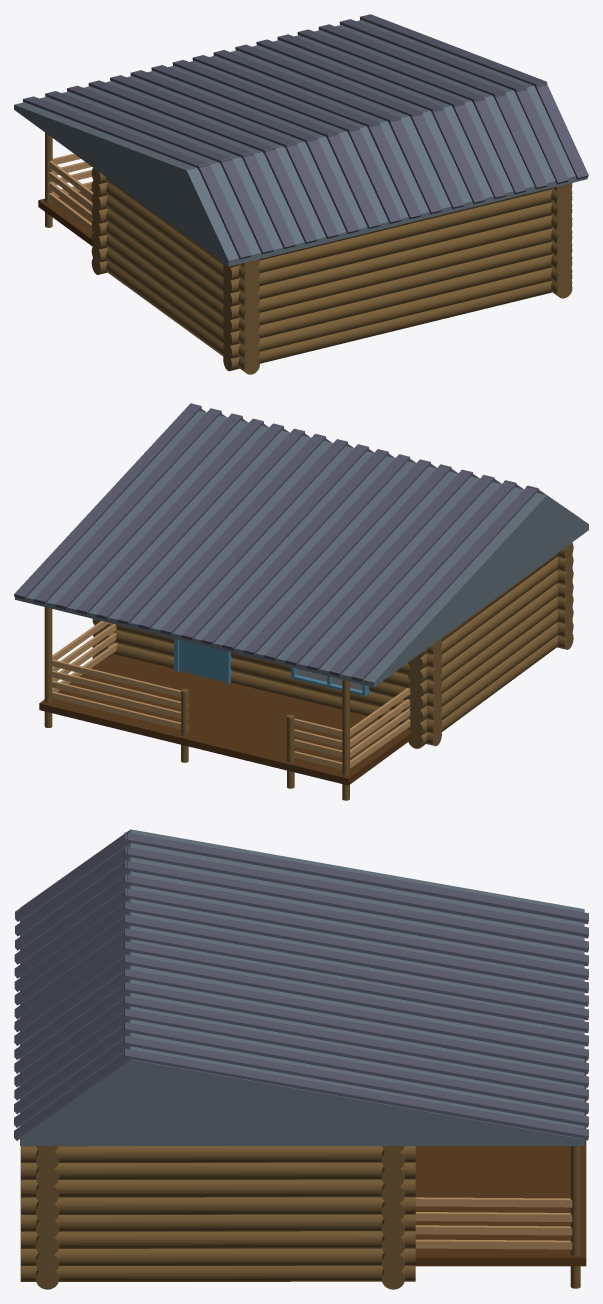
Rendered from Cabin.fbx.
3 renders of one model, top to bottom at view 1: azimuth 30°, elevation 25°; view 2: azimuth 150°, elevation 25°; view 3: azimuth 270°, elevation 25°, orthographic. The views are drawn at different scales.
Visible parts, largest first — view 1: Cube.017; view 2: Cube.017; view 3: Cube.017.
Boxes of the visible parts, bbox=[...] form: Cube.017: bbox=[14, 14, 588, 374]; Cube.017: bbox=[14, 403, 588, 800]; Cube.017: bbox=[14, 829, 588, 1289].
Bounding box in the file's own units: 2923 × 1495 × 3083.
